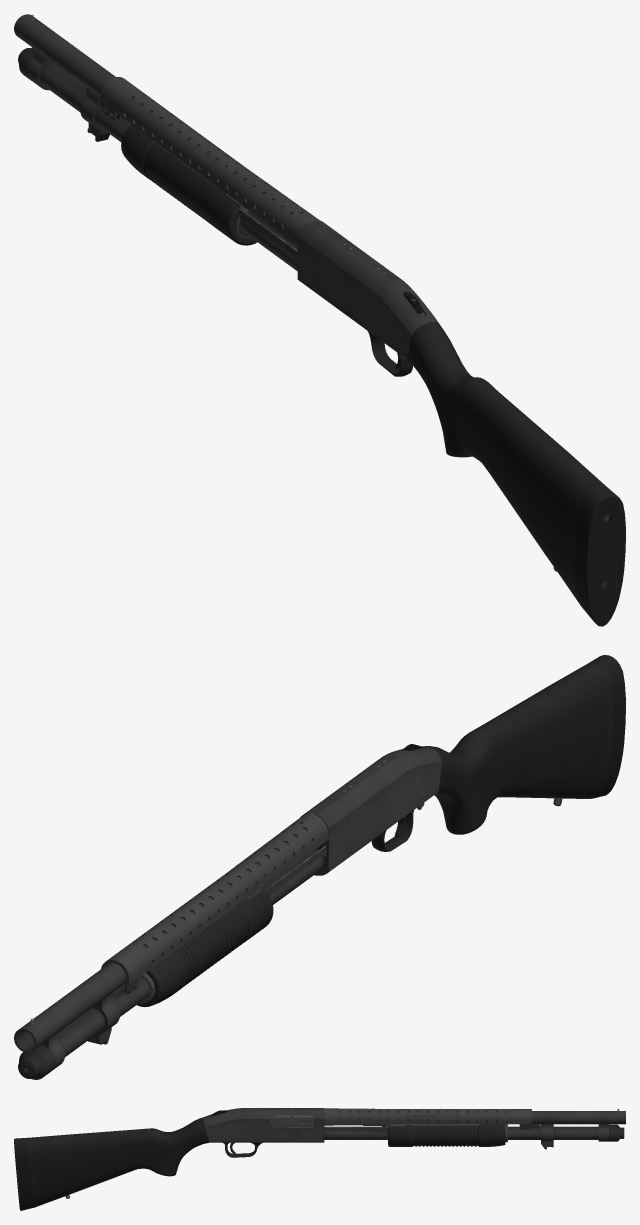
The picture shows the model from 3 angles, top to bottom: view 1: azimuth 30°, elevation 25°; view 2: azimuth 150°, elevation 25°; view 3: azimuth 270°, elevation 25°; orthographic projection. The views are drawn at different scales.
Parts seen in each view (by area): view 1: m590_stock, m590_receiver, heatshield, m590_pump; view 2: m590_stock, m590_receiver, heatshield, m590_pump; view 3: m590_stock, m590_receiver, heatshield, m590_pump, m590_bolt.
Boxes of the visible parts, x1,y1,x2,y2 form: m590_stock: [407, 322, 625, 626]; m590_receiver: [14, 14, 439, 376]; heatshield: [100, 77, 319, 246]; m590_pump: [121, 125, 297, 258]; m590_stock: [425, 655, 625, 834]; m590_receiver: [14, 746, 442, 1079]; heatshield: [101, 813, 328, 999]; m590_pump: [137, 845, 326, 1007]; m590_stock: [14, 1117, 209, 1210]; m590_receiver: [203, 1108, 625, 1157]; heatshield: [324, 1108, 540, 1130]; m590_pump: [274, 1124, 507, 1146]; m590_bolt: [270, 1115, 313, 1125].
Size of the model in its own units: 0.4333 by 1.78 by 9.68.
2 materials, 2 textured.
